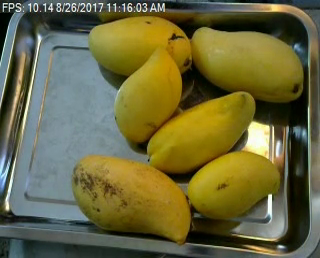Mango: (71, 156, 192, 242), (147, 90, 256, 172), (190, 25, 304, 100), (113, 48, 182, 142), (89, 17, 191, 78), (187, 151, 279, 216)
